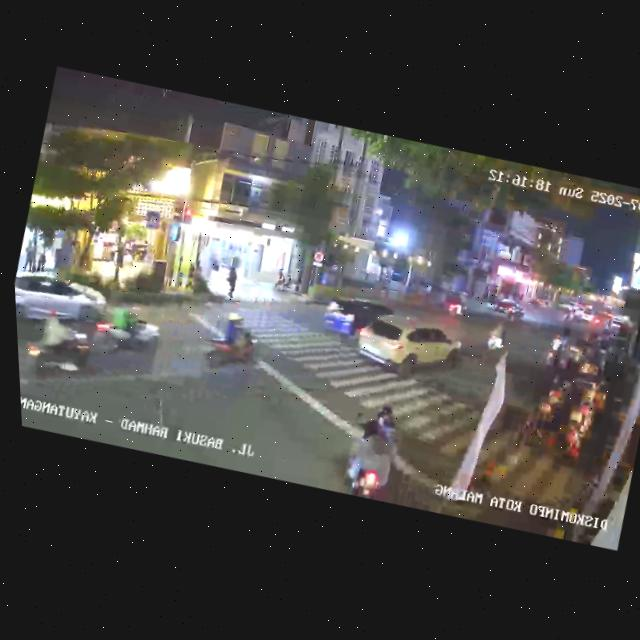car: (344, 303, 469, 391), (14, 264, 113, 356), (314, 288, 401, 355), (486, 293, 529, 326), (603, 311, 638, 341)
motorcycle: (332, 393, 425, 506), (18, 296, 104, 388), (89, 295, 168, 369), (194, 306, 268, 382), (478, 316, 512, 364), (541, 330, 569, 370), (444, 288, 470, 321)
person: (221, 263, 241, 301), (111, 247, 130, 279), (21, 238, 39, 270), (34, 247, 48, 272)
